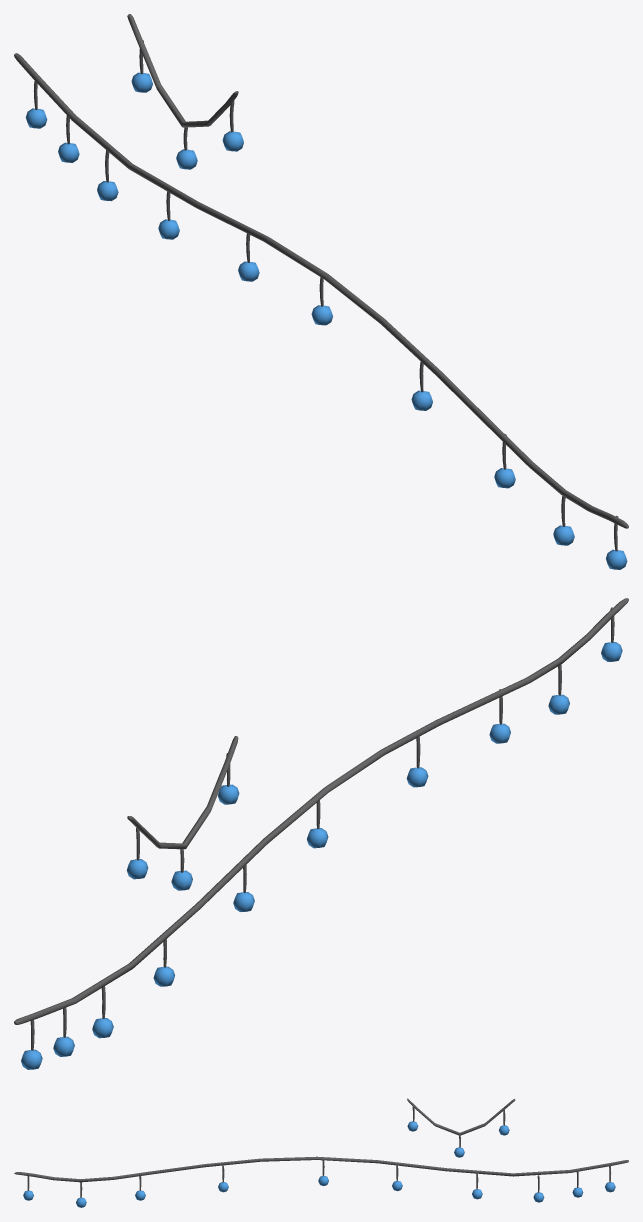
File: Lights.fbx
3 renders of one model, top to bottom at view 1: azimuth 30°, elevation 25°; view 2: azimuth 150°, elevation 25°; view 3: azimuth 270°, elevation 25°, orthographic. The views are drawn at different scales.
Visible parts, largest first — view 1: Cube.002, Cube.003; view 2: Cube.002, Cube.003; view 3: Cube.002, Cube.003.
Boxes of the visible parts, x1,y1,x2,y2 form: Cube.002: (14, 53, 628, 551); Cube.003: (127, 14, 238, 150); Cube.002: (14, 598, 628, 1050); Cube.003: (127, 736, 238, 872); Cube.002: (14, 1156, 628, 1197); Cube.003: (407, 1098, 515, 1147).
Size of the model in its own units: 33.67 by 368 by 1885.
